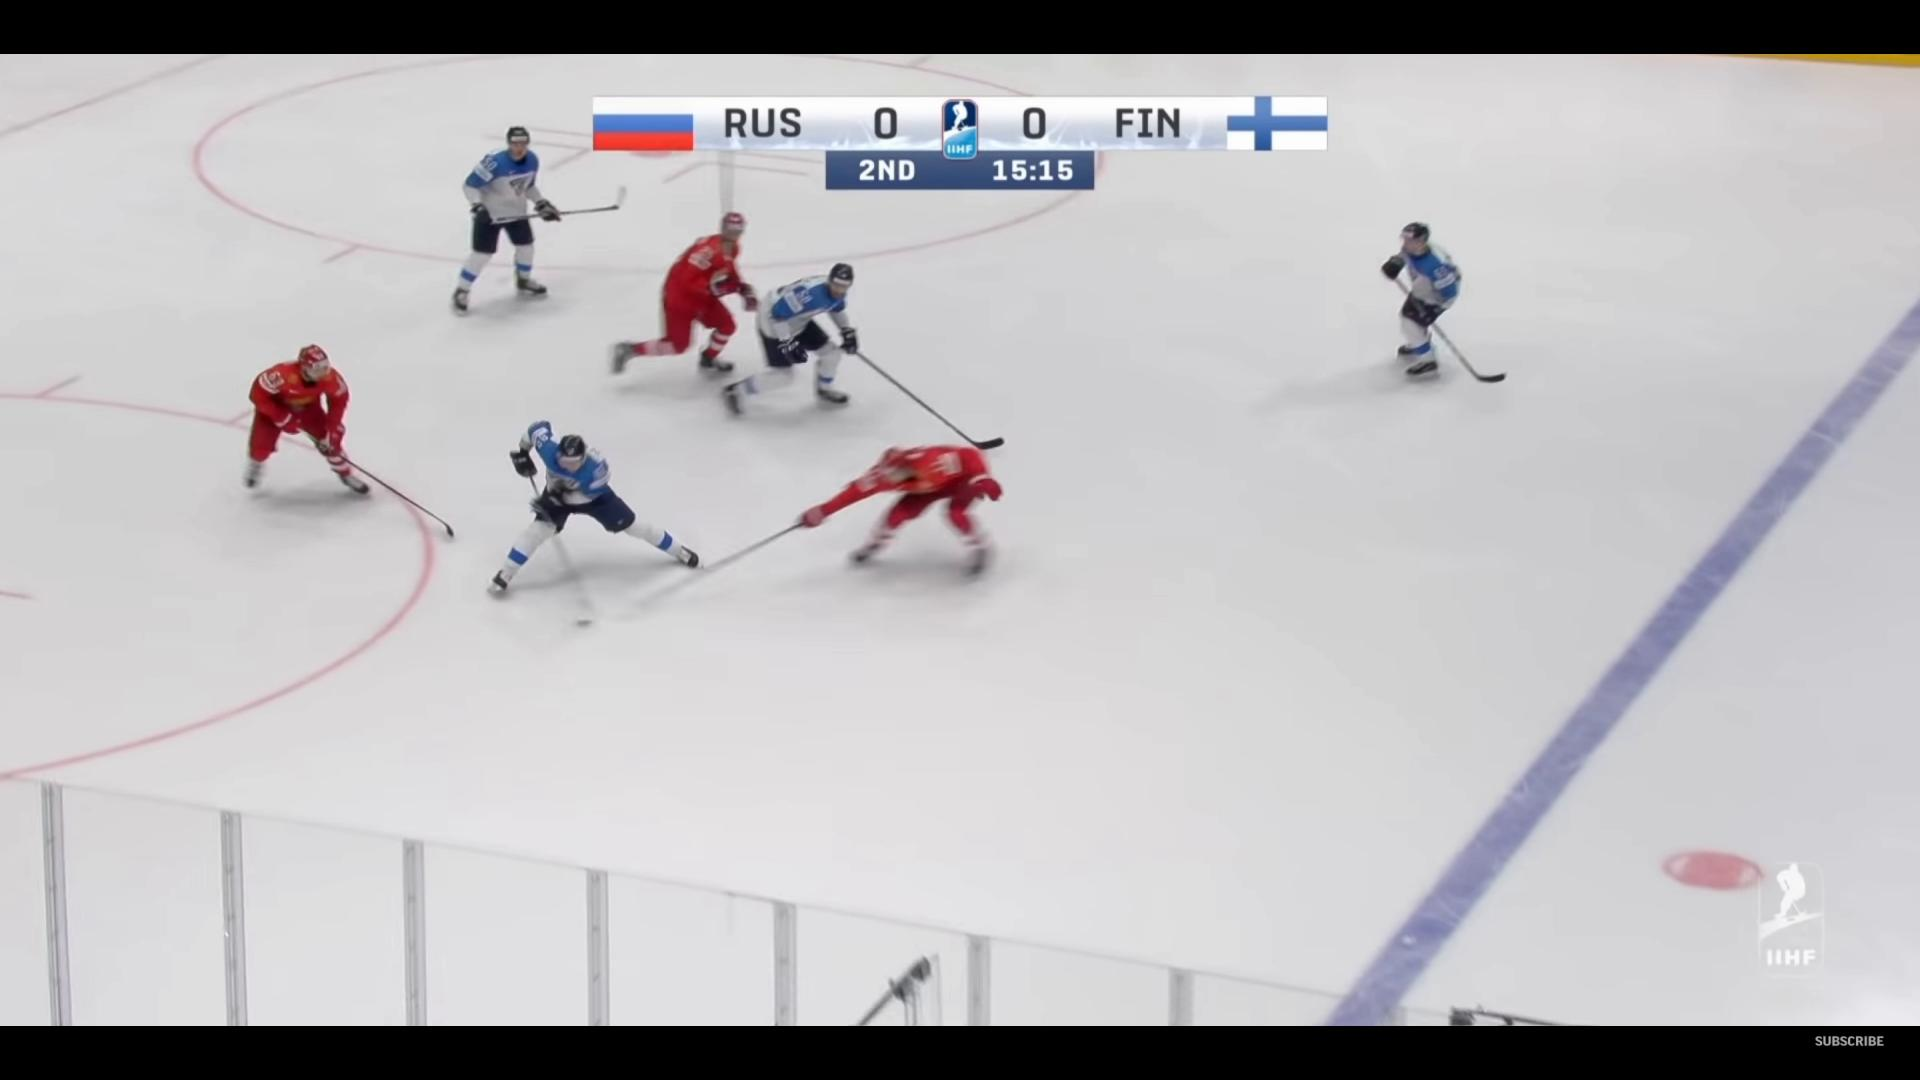puck: (575, 618, 592, 628)
